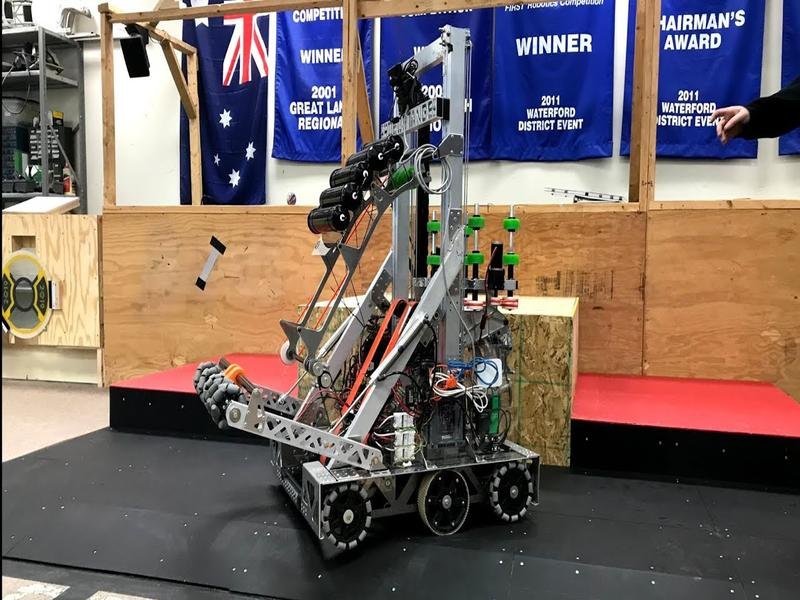robot: (202, 25, 537, 544)
